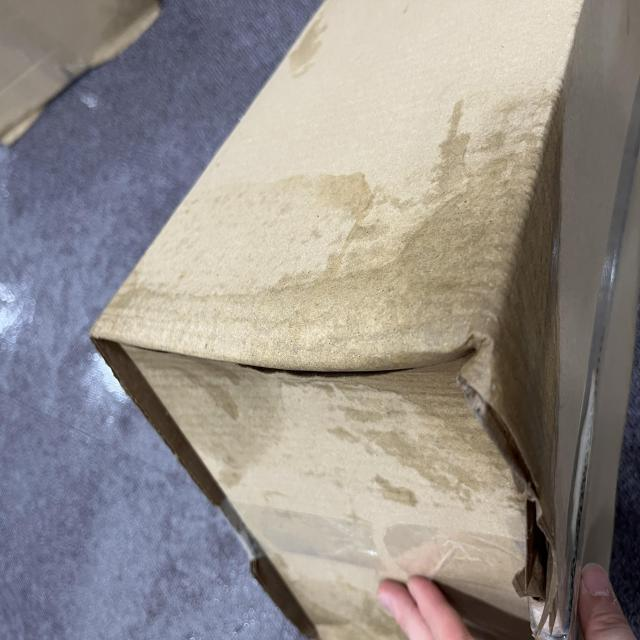wet: (116, 196, 403, 640)
